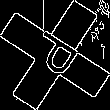P_SE: (24, 26, 86, 84)
